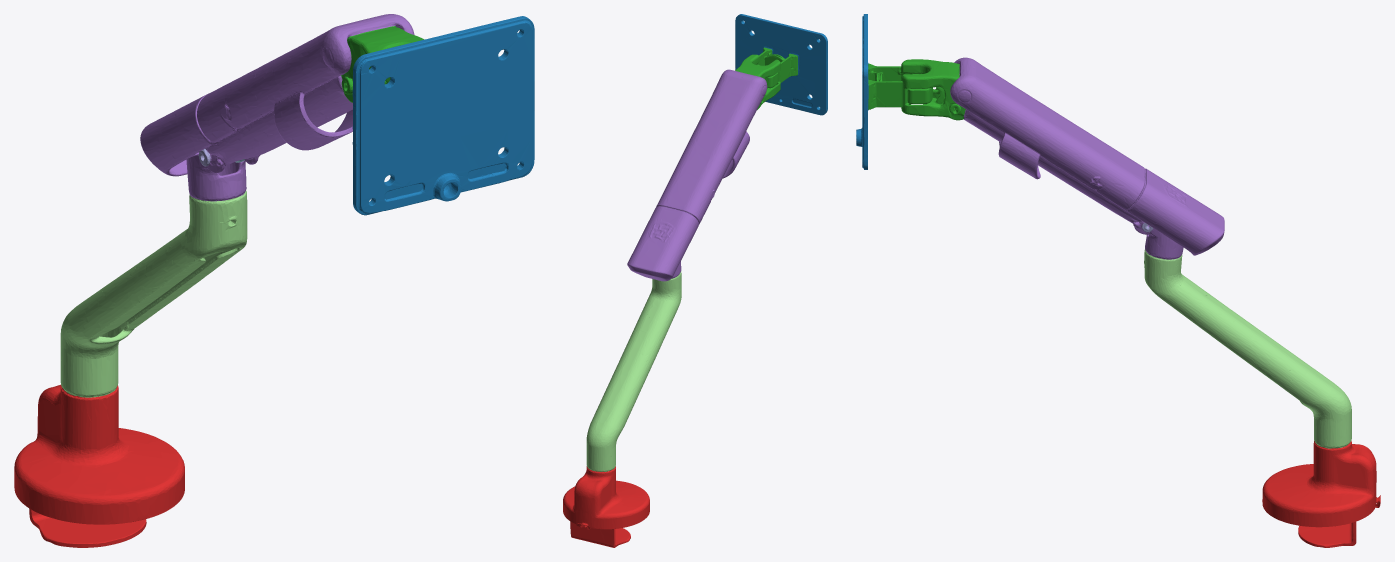
Rendered from monitor-arm.glb.
3 views of the same model, side by side, from view 1: azimuth 30°, elevation 25°; view 2: azimuth 150°, elevation 25°; view 3: azimuth 270°, elevation 25° (orthographic). The views are drawn at different scales.
Visible parts, largest first — view 1: model_part0, model_part2, model_part1, model_part4, model_part3; view 2: model_part2, model_part4, model_part0, model_part1, model_part3; view 3: model_part2, model_part4, model_part1, model_part3, model_part0.
Part boxes in pixels (x1,y1,x2,y2): model_part0: [352, 16, 534, 215]; model_part2: [140, 14, 414, 201]; model_part1: [14, 384, 184, 547]; model_part4: [60, 190, 247, 397]; model_part3: [341, 26, 424, 102]; model_part2: [627, 69, 767, 281]; model_part4: [586, 271, 681, 471]; model_part0: [735, 14, 827, 115]; model_part1: [563, 466, 649, 547]; model_part3: [735, 47, 797, 109]; model_part2: [950, 57, 1224, 259]; model_part4: [1144, 249, 1351, 448]; model_part1: [1262, 441, 1380, 547]; model_part3: [868, 59, 965, 120]; model_part0: [856, 14, 868, 169].
Size of the model in its own units: 0.0301 by 0.12 by 0.1157.
